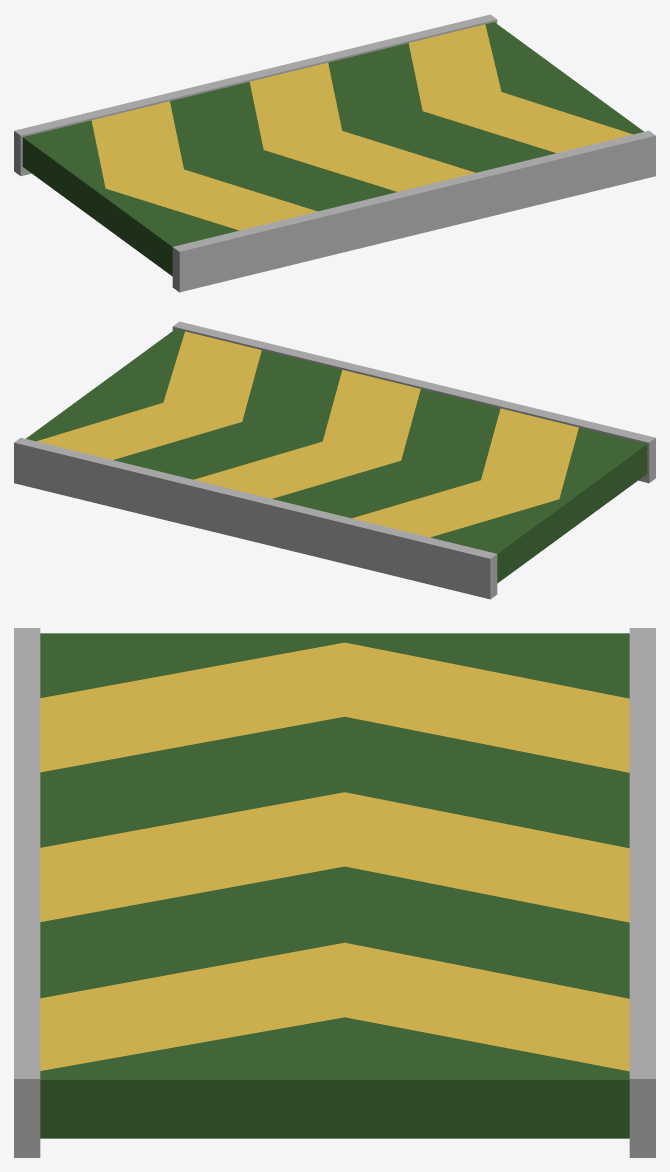
File: prp_6.fbx
The picture shows the model from 3 angles, top to bottom: view 1: azimuth 30°, elevation 25°; view 2: azimuth 150°, elevation 25°; view 3: azimuth 270°, elevation 25°; orthographic projection. The views are drawn at different scales.
Parts seen in each view (by area): view 1: polySurface4; view 2: polySurface4; view 3: polySurface4.
Boxes of the visible parts, <box> form: polySurface4: <box>14,14,655,292</box>; polySurface4: <box>14,321,655,599</box>; polySurface4: <box>14,628,655,1157</box>.
Size of the model in its own units: 8.18 by 0.6659 by 4.92.
